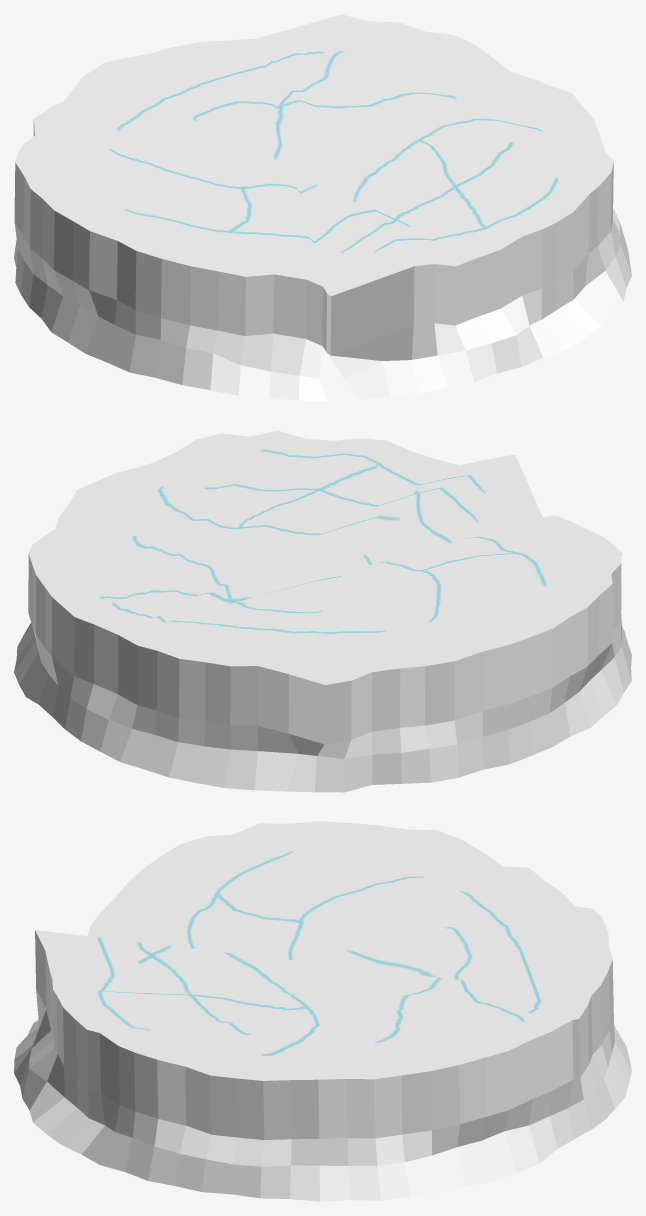
The model's file is IcefloorColoured.fbx.
3 views of the same model, one above another, from view 1: azimuth 30°, elevation 25°; view 2: azimuth 150°, elevation 25°; view 3: azimuth 270°, elevation 25° (orthographic).
Visible parts, largest first — view 1: Cube; view 2: Cube; view 3: Cube.
Part boxes in pixels (box(x1,y1,x2,y2)): Cube: box(14, 14, 631, 401); Cube: box(14, 430, 631, 792); Cube: box(14, 821, 631, 1201).
Size of the model in its own units: 384 by 86.93 by 385.
1 material, 1 textured.
